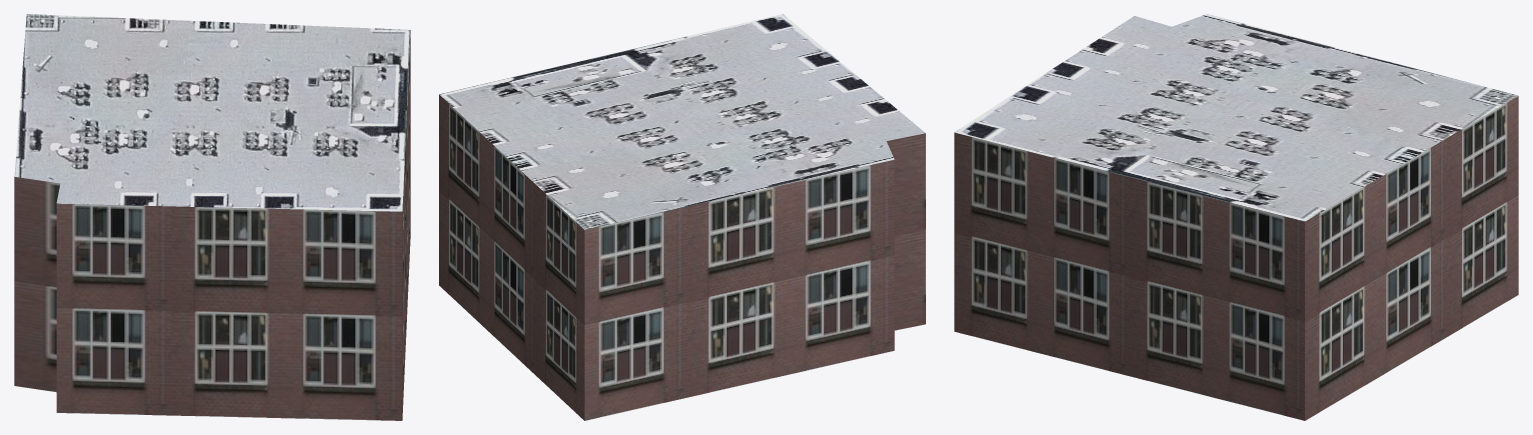
Rendered from ResTex__3790.fbx.
3 renders of one model, left to right at view 1: azimuth 30°, elevation 25°; view 2: azimuth 150°, elevation 25°; view 3: azimuth 270°, elevation 25°, orthographic. The views are drawn at different scales.
Visible parts, largest first — view 1: CityEngineMaterial_12_m, CityEngineMaterial_4_m; view 2: CityEngineMaterial_12_m, CityEngineMaterial_4_m; view 3: CityEngineMaterial_12_m, CityEngineMaterial_4_m.
Part boxes in pixels (box(x1,y1,x2,y2)): CityEngineMaterial_12_m: box(14, 30, 410, 420); CityEngineMaterial_4_m: box(14, 14, 410, 211); CityEngineMaterial_12_m: box(439, 94, 925, 420); CityEngineMaterial_4_m: box(439, 14, 925, 229); CityEngineMaterial_12_m: box(954, 96, 1518, 420); CityEngineMaterial_4_m: box(954, 14, 1518, 221).
Size of the model in its own units: 13.43 by 6 by 15.42.
2 materials, 2 textured.
